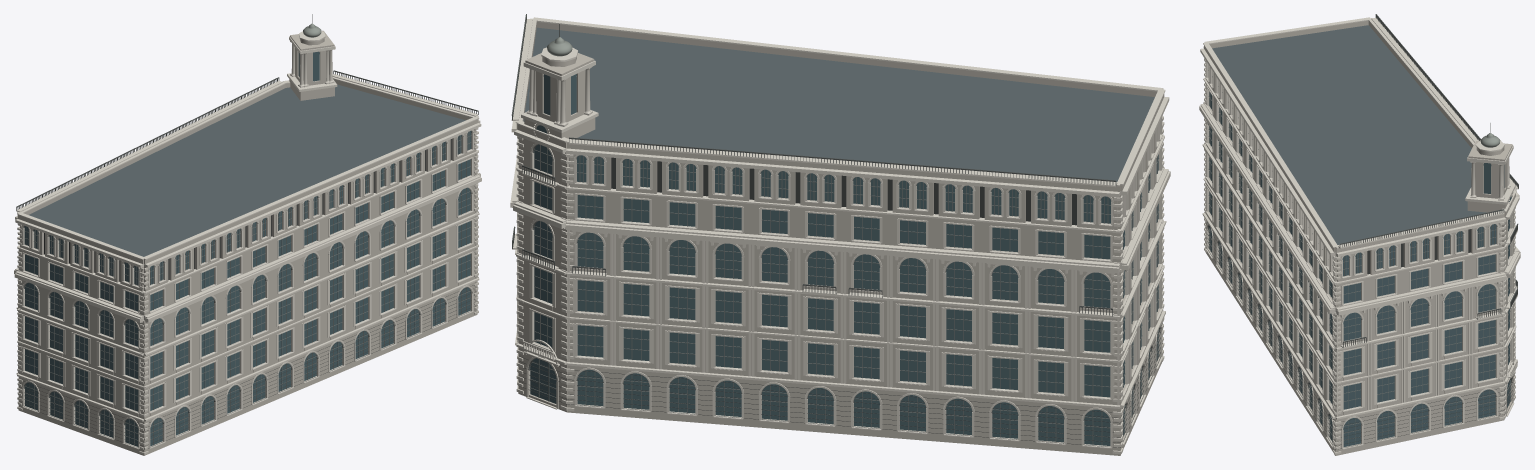
The model's file is bund03.glb.
The picture shows the model from 3 angles, left to right: view 1: azimuth 30°, elevation 25°; view 2: azimuth 150°, elevation 25°; view 3: azimuth 270°, elevation 25°; orthographic projection. The views are drawn at different scales.
Visible parts, largest first — view 1: bund03; view 2: bund03; view 3: bund03.
Boxes of the visible parts, left/top/right/bottom form: bund03: left=14, top=14, right=481, bottom=455; bund03: left=510, top=14, right=1170, bottom=455; bund03: left=1199, top=14, right=1520, bottom=455.
Size of the model in its own units: 80.32 by 45.75 by 46.73.
